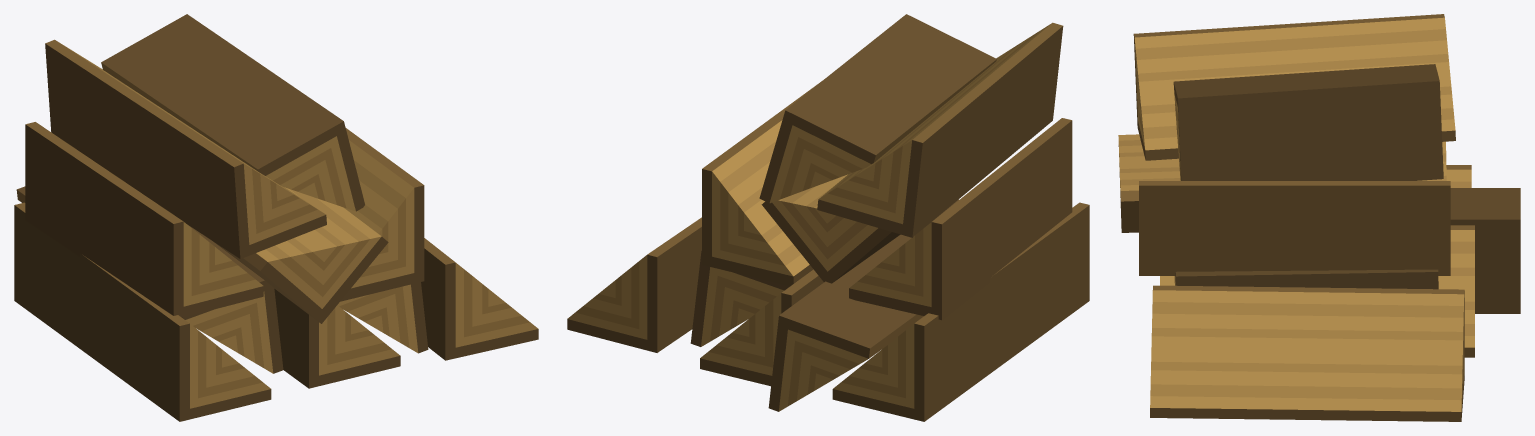
File: SA_Prop_Firewood_01.glb
The picture shows the model from 3 angles, left to right: view 1: azimuth 30°, elevation 25°; view 2: azimuth 150°, elevation 25°; view 3: azimuth 270°, elevation 25°; orthographic projection. The views are drawn at different scales.
Visible parts, largest first — view 1: SA_Prop_Firewood_01; view 2: SA_Prop_Firewood_01; view 3: SA_Prop_Firewood_01.
Boxes of the visible parts, x1,y1,x2,y2 form: SA_Prop_Firewood_01: [14, 14, 538, 421]; SA_Prop_Firewood_01: [567, 14, 1089, 421]; SA_Prop_Firewood_01: [1118, 14, 1520, 421].
Size of the model in its own units: 0.5869 by 0.4069 by 0.5933.
1 material, 1 textured.
